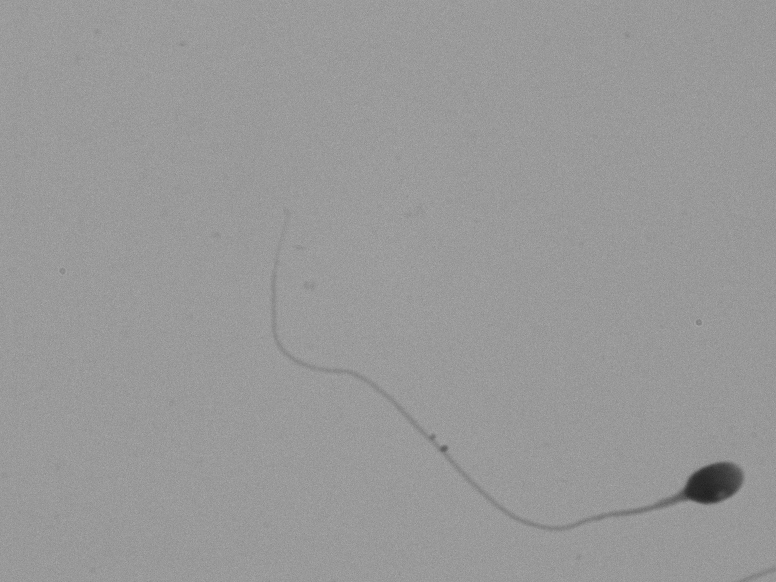Normal: (249, 215, 750, 549)
